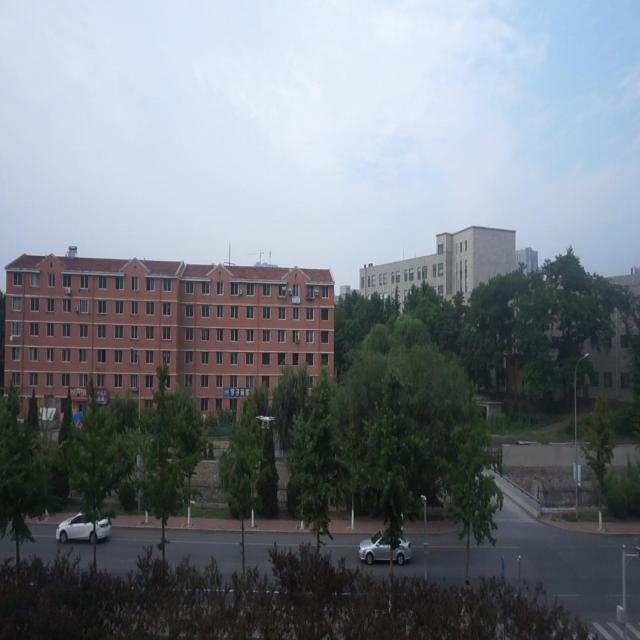drone: (255, 409, 276, 431)
